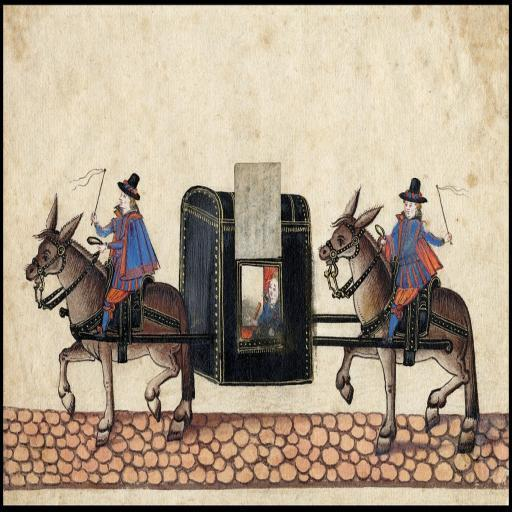horse: (317, 184, 481, 456), (24, 192, 198, 440)
